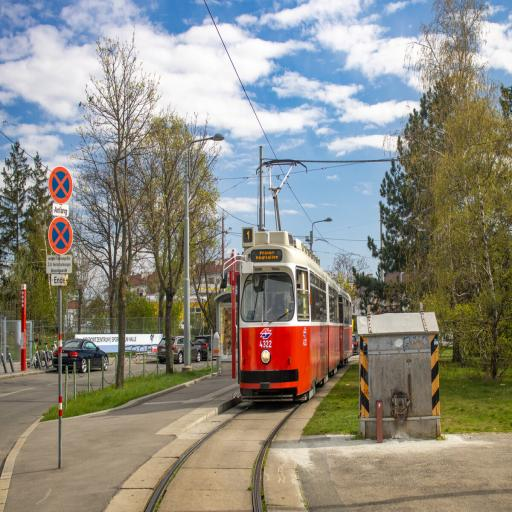E2-Tram: (237, 224, 353, 397)
